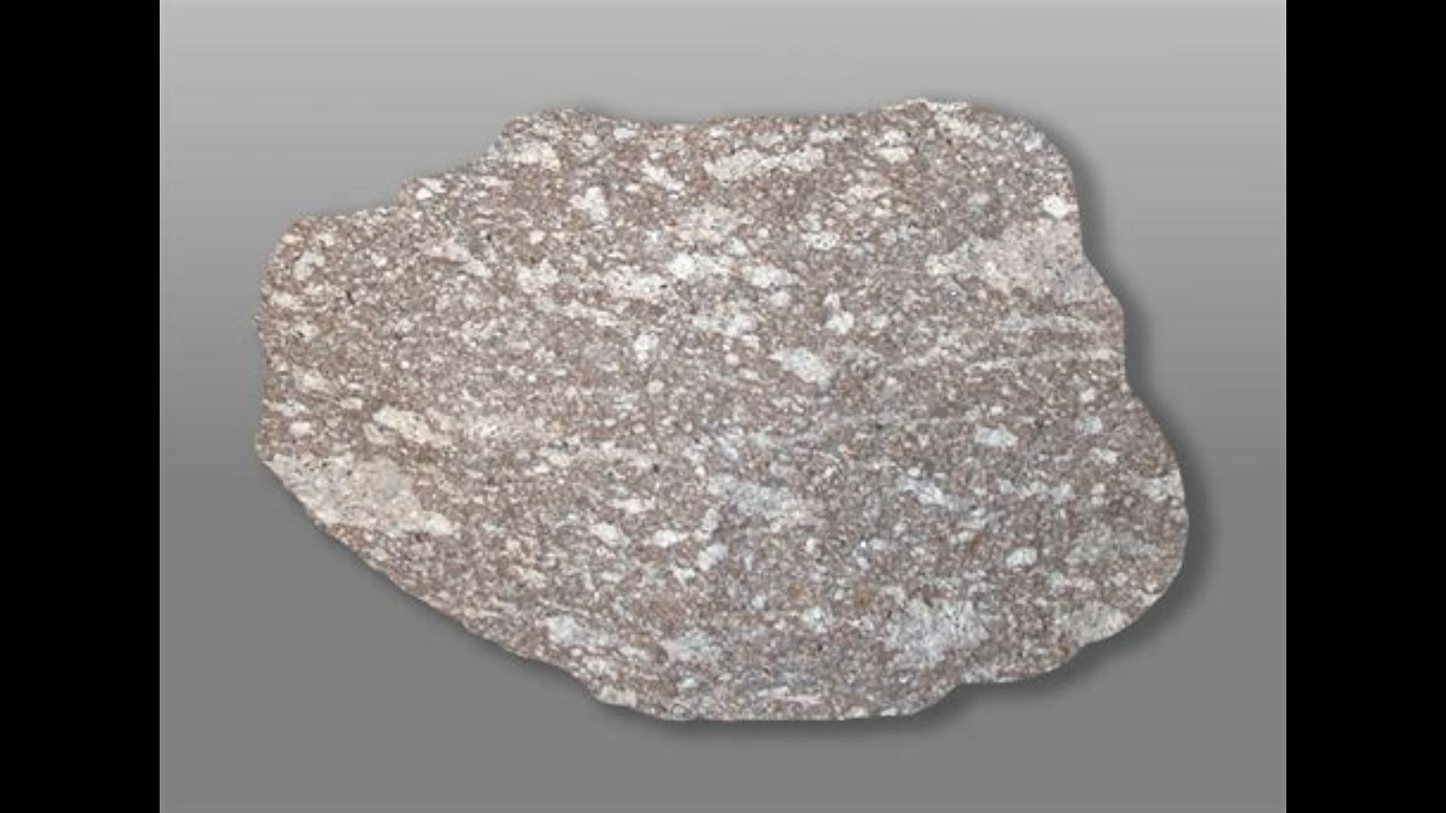rock: (262, 102, 1187, 716)
